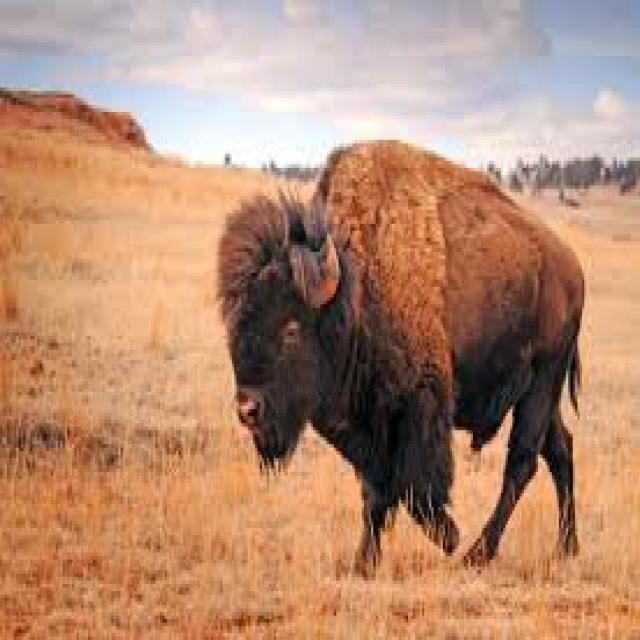Bison: (208, 121, 599, 591)
